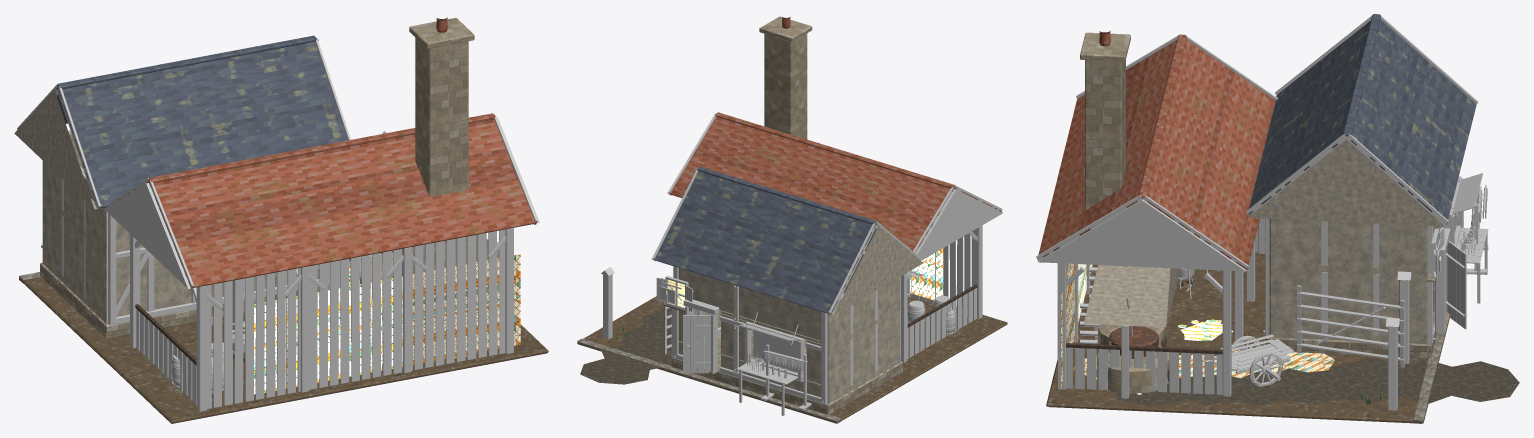
The model's file is chandler.gltf.
The picture shows the model from 3 angles, left to right: view 1: azimuth 30°, elevation 25°; view 2: azimuth 150°, elevation 25°; view 3: azimuth 270°, elevation 25°; orthographic projection. The views are drawn at different scales.
Parts seen in each view (by area): view 1: chandler#n1_0, chandler#n1_n1, chandler#0_0; view 2: chandler#n1_n1, chandler#n1_0, chandler#0_0, chandler#0_n1; view 3: chandler#n1_0, chandler#0_n1, chandler#n1_n1, chandler#0_0.
Part boxes in pixels (<box>): chandler#n1_0: <box>104,113,539,411</box>; chandler#n1_n1: <box>14,35,350,338</box>; chandler#0_0: <box>19,17,548,423</box>; chandler#n1_n1: <box>652,167,923,415</box>; chandler#n1_0: <box>667,112,1002,362</box>; chandler#0_0: <box>577,16,1007,423</box>; chandler#0_n1: <box>577,258,841,423</box>; chandler#n1_0: <box>1036,34,1277,396</box>; chandler#0_n1: <box>1115,139,1519,423</box>; chandler#n1_n1: <box>1246,14,1488,358</box>; chandler#0_0: <box>1046,30,1449,423</box>.
Bounding box in the file's own units: 11.54 × 9.46 × 12.23.
